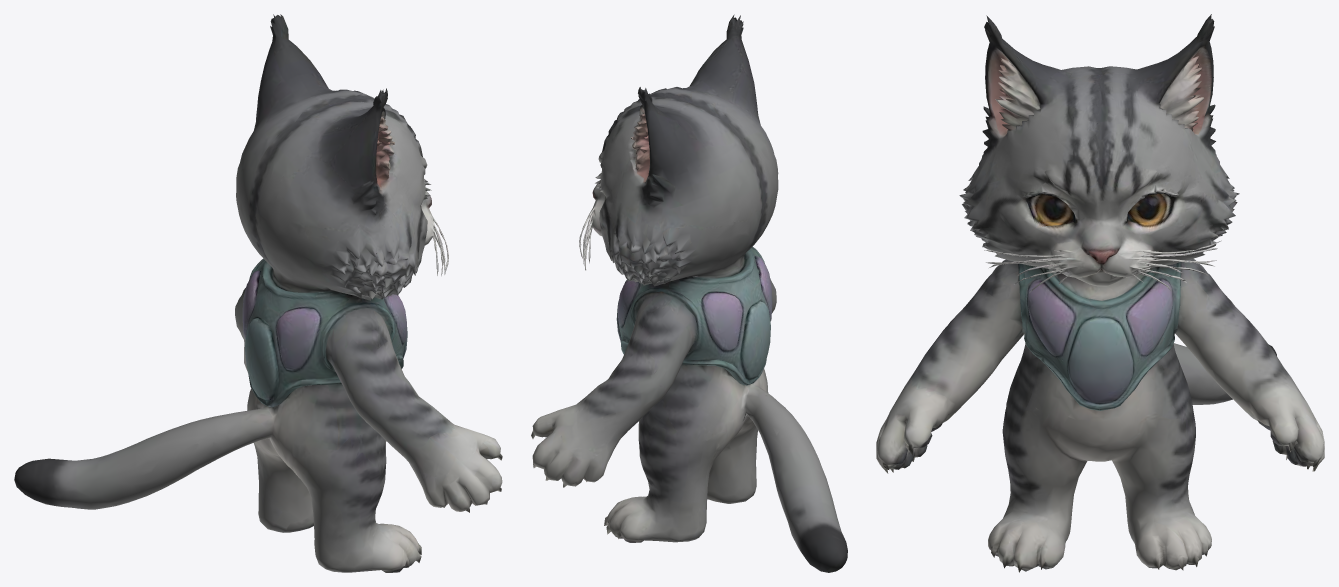
File: 500003807-static-p1.glb
3 renders of one model, left to right at view 1: azimuth 30°, elevation 25°; view 2: azimuth 150°, elevation 25°; view 3: azimuth 270°, elevation 25°, orthographic. The views are drawn at different scales.
Visible parts, largest first — view 1: tripo_node_a5787bcf-0032-49f3-b826-01efae457438; view 2: tripo_node_a5787bcf-0032-49f3-b826-01efae457438; view 3: tripo_node_a5787bcf-0032-49f3-b826-01efae457438.
Boxes of the visible parts, left/top/right/bottom form: tripo_node_a5787bcf-0032-49f3-b826-01efae457438: left=14, top=14, right=502, bottom=572; tripo_node_a5787bcf-0032-49f3-b826-01efae457438: left=531, top=14, right=847, bottom=572; tripo_node_a5787bcf-0032-49f3-b826-01efae457438: left=876, top=14, right=1324, bottom=572.
Bounding box in the file's own units: 0.2515 × 0.35 × 0.2676.
Materials: 1 (1 with a texture image).
